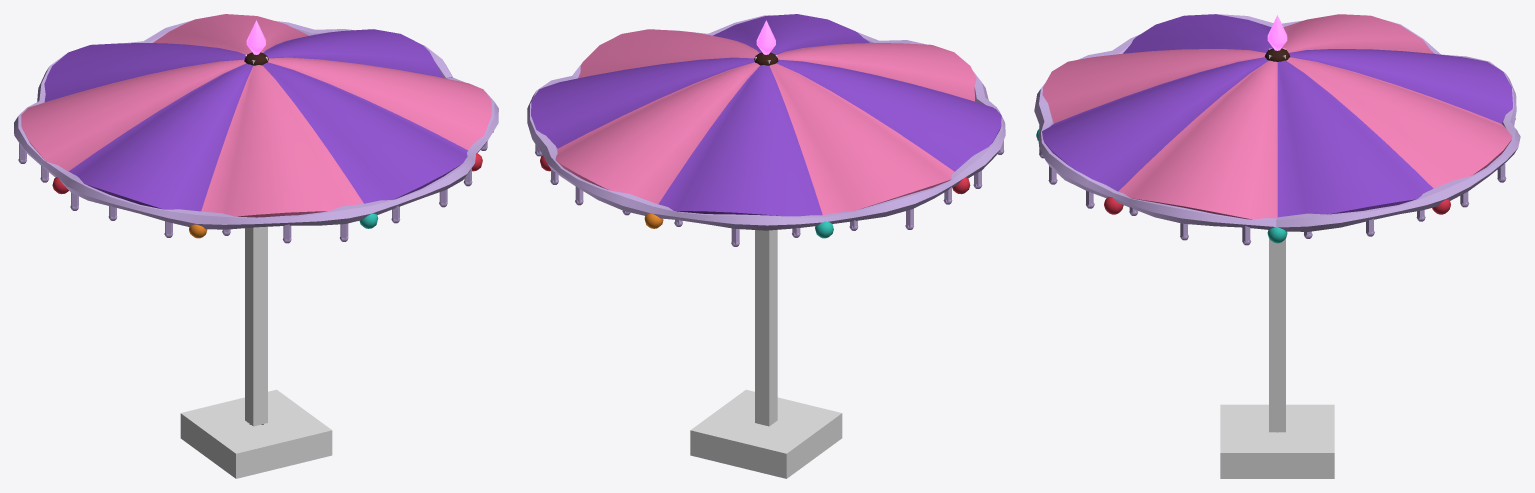
The model's file is Candy_Parasol.fbx.
The picture shows the model from 3 angles, left to right: view 1: azimuth 30°, elevation 25°; view 2: azimuth 150°, elevation 25°; view 3: azimuth 270°, elevation 25°; orthographic projection. The views are drawn at different scales.
Parts seen in each view (by area): view 1: Candy_Parasol_Canopy, Candy_Parasol_Decoration, COL_Candy_Parasol_0, COL_Candy_Parasol_1; view 2: Candy_Parasol_Canopy, Candy_Parasol_Decoration, COL_Candy_Parasol_0, COL_Candy_Parasol_1; view 3: Candy_Parasol_Canopy, Candy_Parasol_Decoration, COL_Candy_Parasol_0, COL_Candy_Parasol_1.
Part boxes in pixels (box(x1,y1,x2,y2)): Candy_Parasol_Canopy: box(21, 14, 491, 217); Candy_Parasol_Decoration: box(14, 20, 498, 243); COL_Candy_Parasol_0: box(180, 389, 332, 478); COL_Candy_Parasol_1: box(245, 54, 267, 426); Candy_Parasol_Canopy: box(531, 14, 1001, 216); Candy_Parasol_Decoration: box(527, 15, 1005, 246); COL_Candy_Parasol_0: box(690, 389, 842, 478); COL_Candy_Parasol_1: box(755, 55, 777, 426); Candy_Parasol_Canopy: box(1042, 14, 1512, 219); Candy_Parasol_Decoration: box(1034, 14, 1520, 245); COL_Candy_Parasol_0: box(1220, 404, 1334, 478); COL_Candy_Parasol_1: box(1269, 48, 1285, 432).
Bounding box in the file's own units: 3.4 × 3.39 × 3.4.
